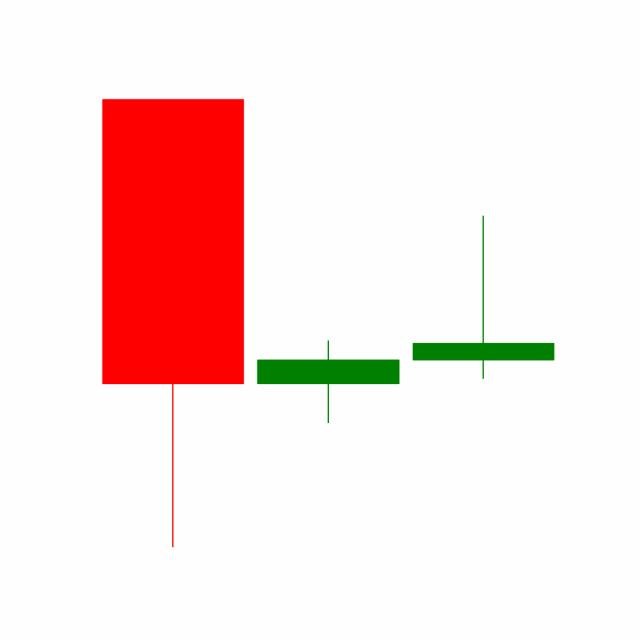Spinning Top: (405, 212, 561, 381)
